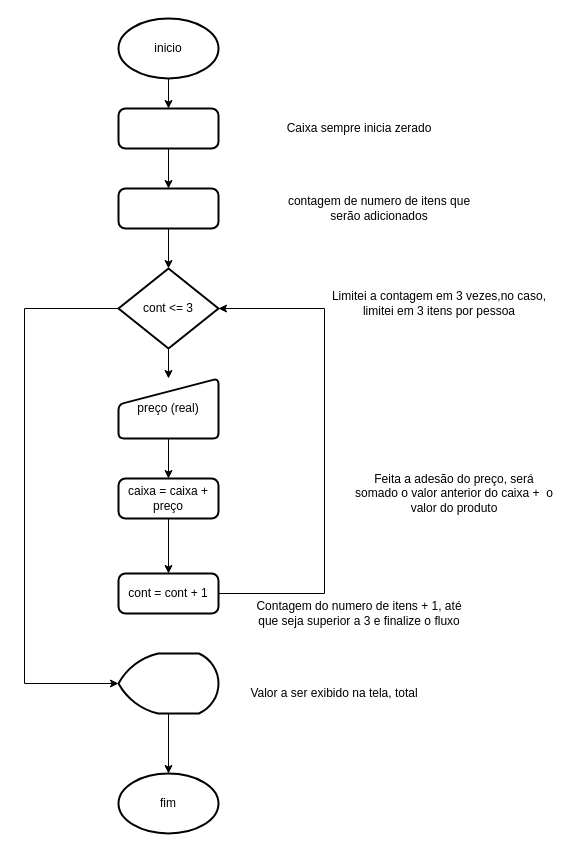
Some shapes in this 572 by 851 pixel diagram are drawn without their labels. Here are the shapes that lost their labels. From the top down, the centre of each, then its label:
point (168, 128): caixa = 0
point (168, 208): cont = 1
point (168, 683): 'valor de caixa' = caixa
